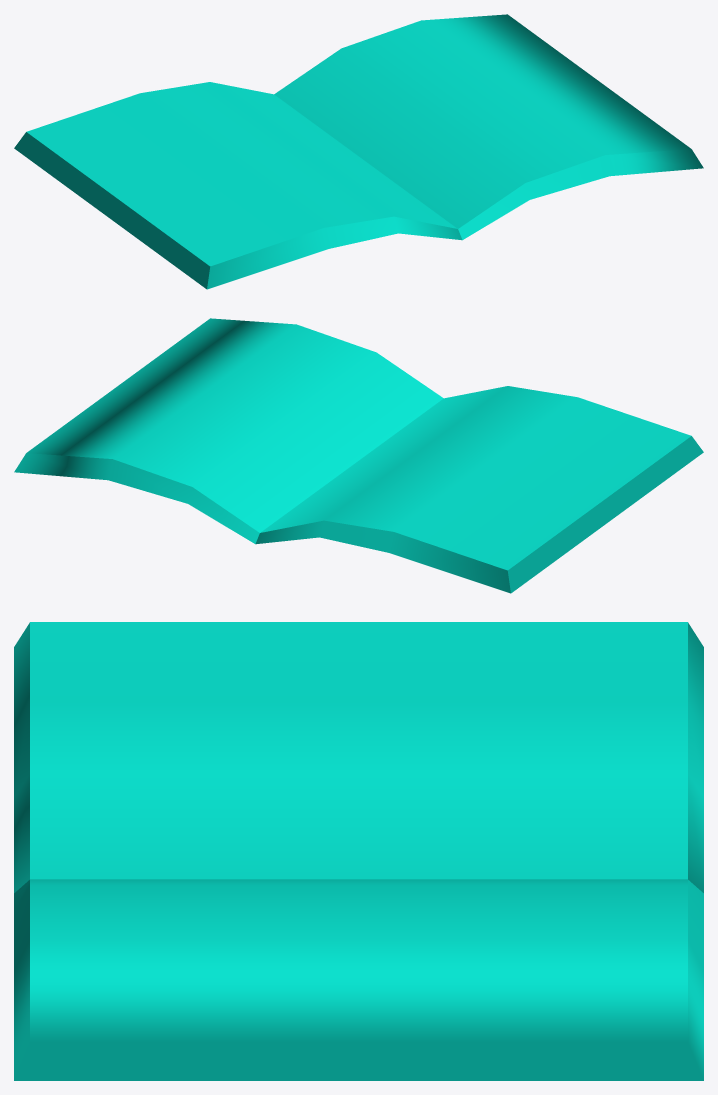
The model's file is livingroom_Magazine.fbx.
3 renders of one model, top to bottom at view 1: azimuth 30°, elevation 25°; view 2: azimuth 150°, elevation 25°; view 3: azimuth 270°, elevation 25°, orthographic. The views are drawn at different scales.
Visible parts, largest first — view 1: livingroom_magazine; view 2: livingroom_magazine; view 3: livingroom_magazine.
Boxes of the visible parts, x1=… form: livingroom_magazine: x1=14, y1=14, x2=703, y2=289; livingroom_magazine: x1=14, y1=318, x2=703, y2=593; livingroom_magazine: x1=14, y1=622, x2=703, y2=1080.
Size of the model in its own units: 2.53 by 0.2239 by 1.7.
